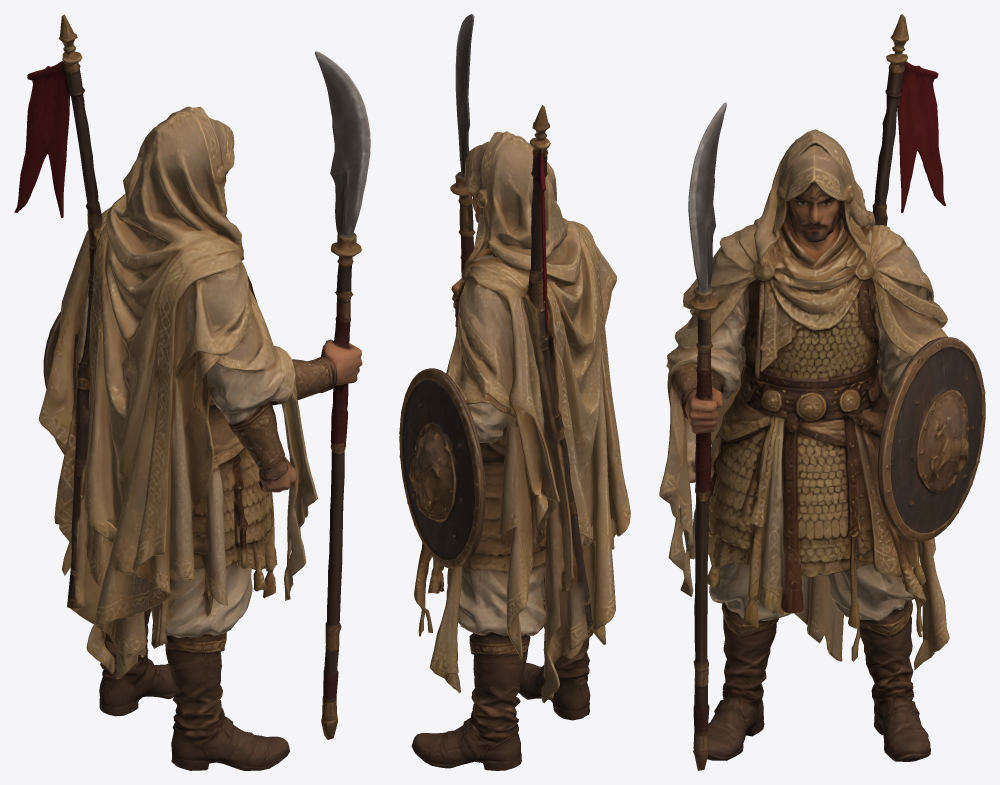
Rendered from vanguard-MirageVeil-tripo.glb.
3 views of the same model, side by side, from view 1: azimuth 30°, elevation 25°; view 2: azimuth 150°, elevation 25°; view 3: azimuth 270°, elevation 25° (orthographic). The views are drawn at different scales.
Parts seen in each view (by area): view 1: tripo_node_5f7c7449-847f-49f2-a55e-a43cec3d5464; view 2: tripo_node_5f7c7449-847f-49f2-a55e-a43cec3d5464; view 3: tripo_node_5f7c7449-847f-49f2-a55e-a43cec3d5464.
Boxes of the visible parts, left/top/right/bottom form: tripo_node_5f7c7449-847f-49f2-a55e-a43cec3d5464: left=14, top=14, right=370, bottom=770; tripo_node_5f7c7449-847f-49f2-a55e-a43cec3d5464: left=399, top=14, right=630, bottom=770; tripo_node_5f7c7449-847f-49f2-a55e-a43cec3d5464: left=659, top=14, right=985, bottom=770.
Bounding box in the file's own units: 0.3359 × 1 × 0.4273.
Materials: 1 (1 with a texture image).
